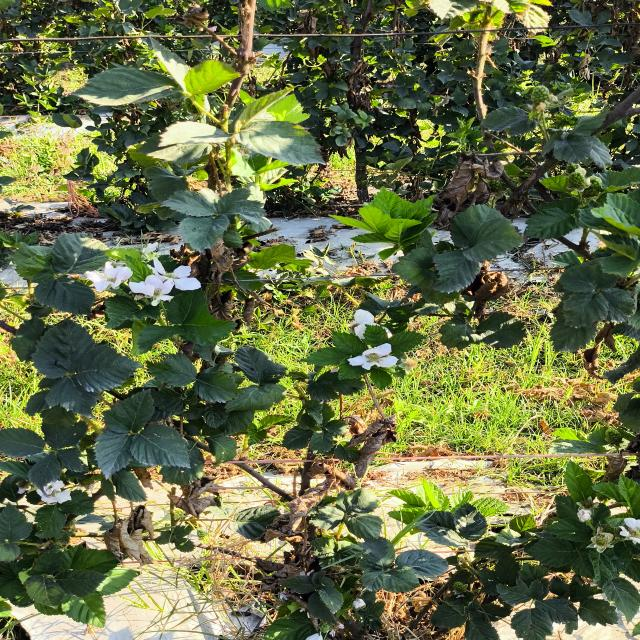flor: (152, 259, 200, 290), (348, 343, 398, 371), (129, 275, 173, 306), (85, 262, 132, 291), (349, 309, 379, 339), (385, 329, 392, 338)
